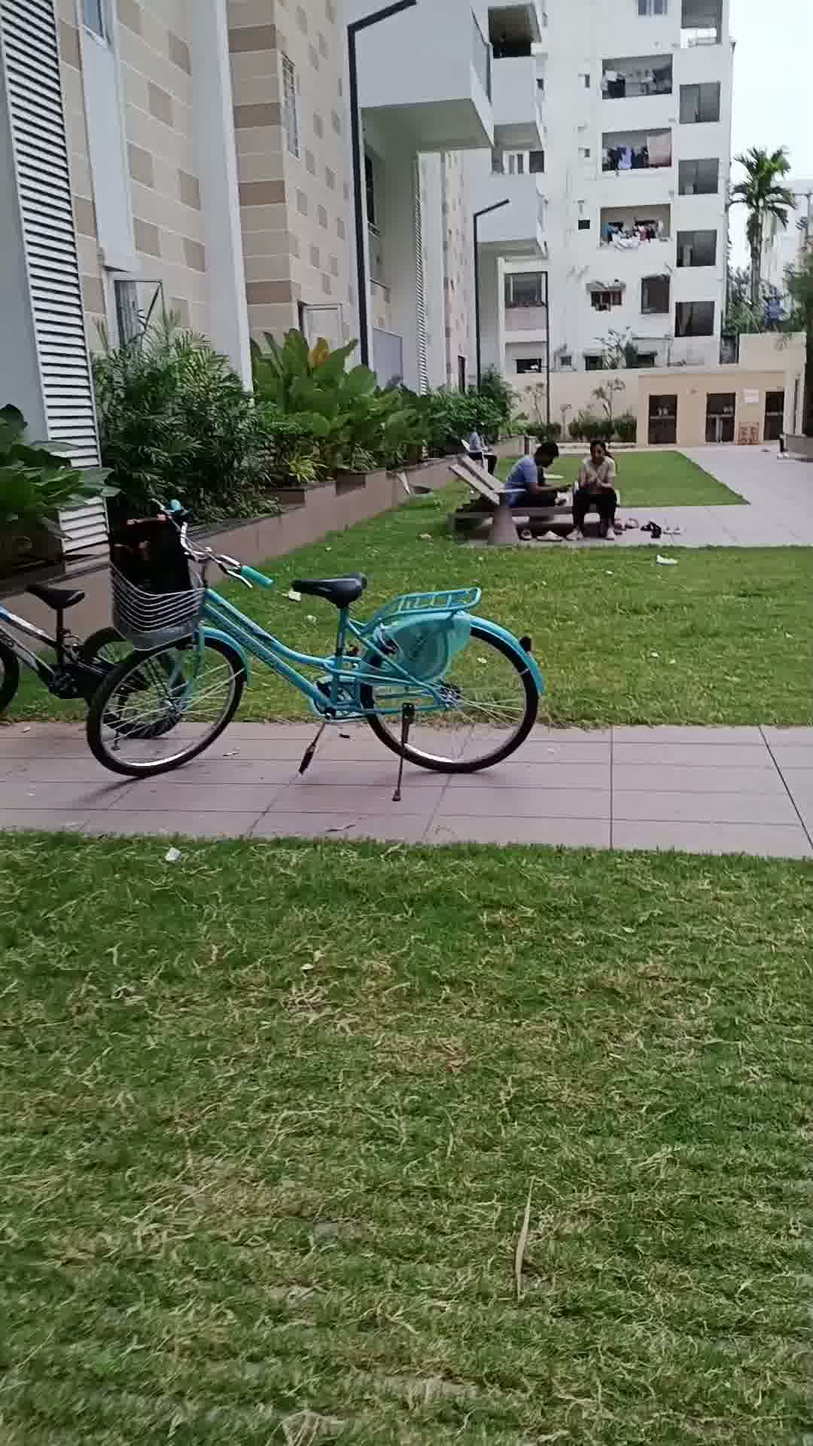bicycle: (77, 481, 558, 825), (0, 569, 179, 751)
person: (578, 421, 637, 555), (498, 421, 560, 529)
tree: (726, 120, 802, 364)
